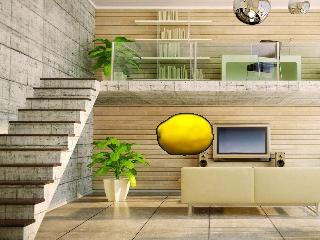lemon: (158, 114, 212, 154)
